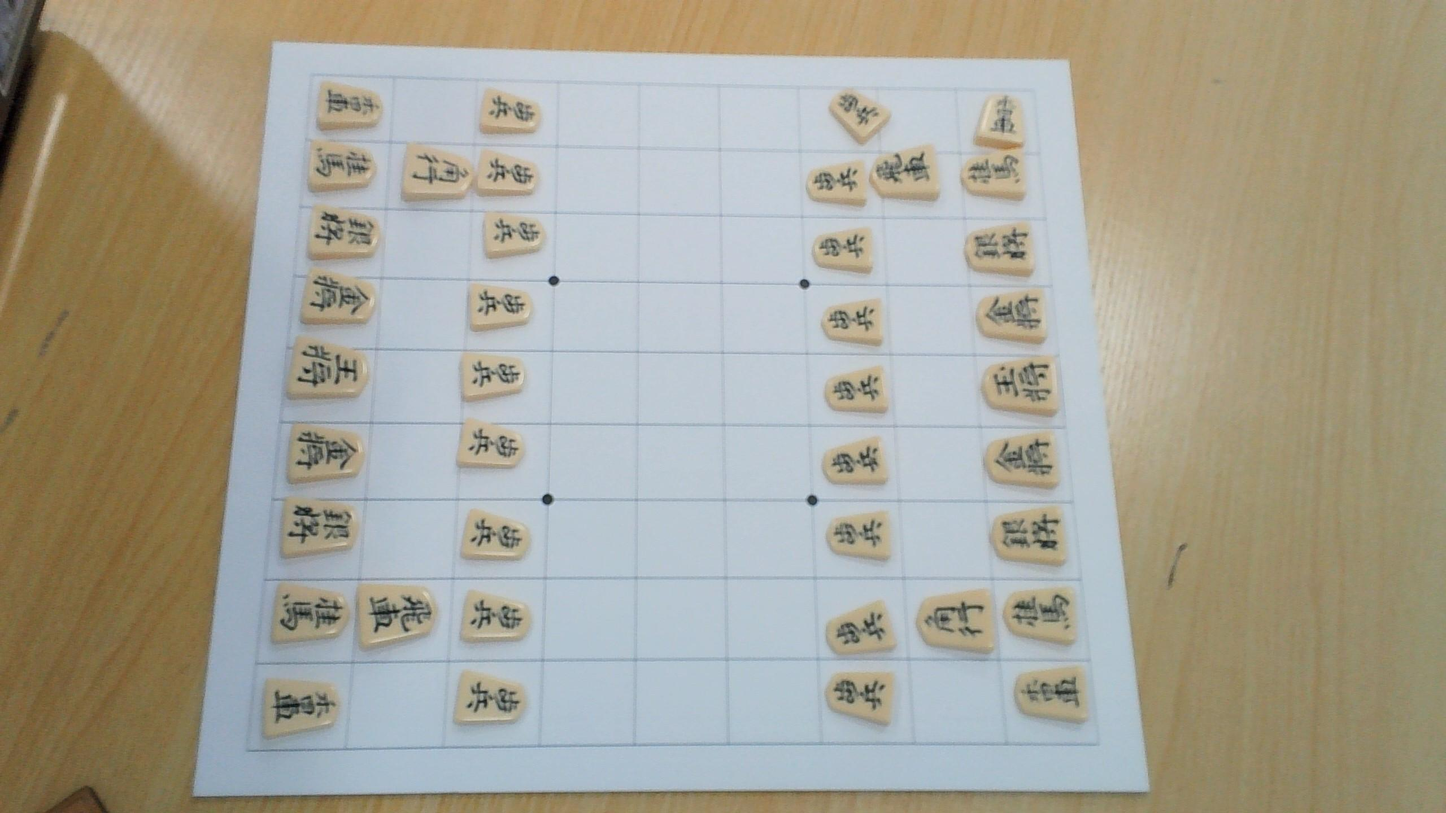board: (246, 74, 1098, 753)
